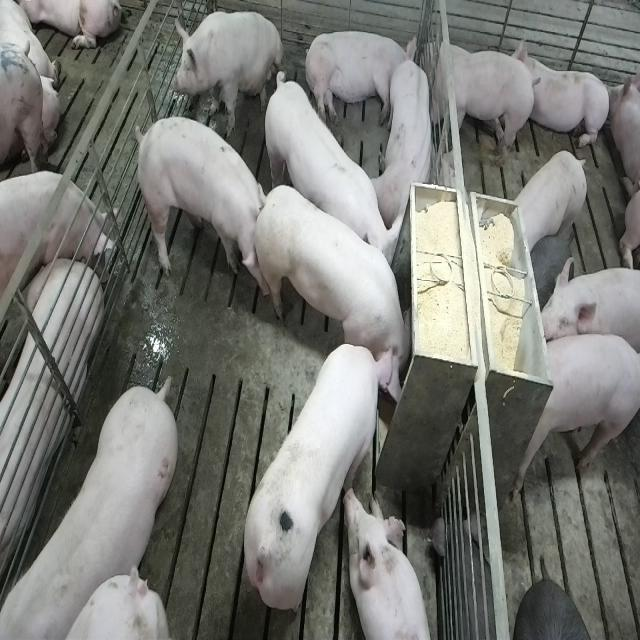Feeding: (242, 338, 401, 615), (250, 177, 412, 381)
Lateral_lying: (0, 256, 102, 608), (302, 25, 417, 127)
Sitting: (170, 8, 284, 134)
Standing: (5, 373, 183, 636), (261, 68, 399, 286), (131, 112, 263, 296), (510, 335, 638, 503), (419, 36, 539, 174), (0, 168, 116, 304), (537, 257, 640, 372), (513, 151, 588, 255)
Sternal_lying: (346, 489, 433, 640), (516, 35, 612, 153), (375, 52, 437, 228)
